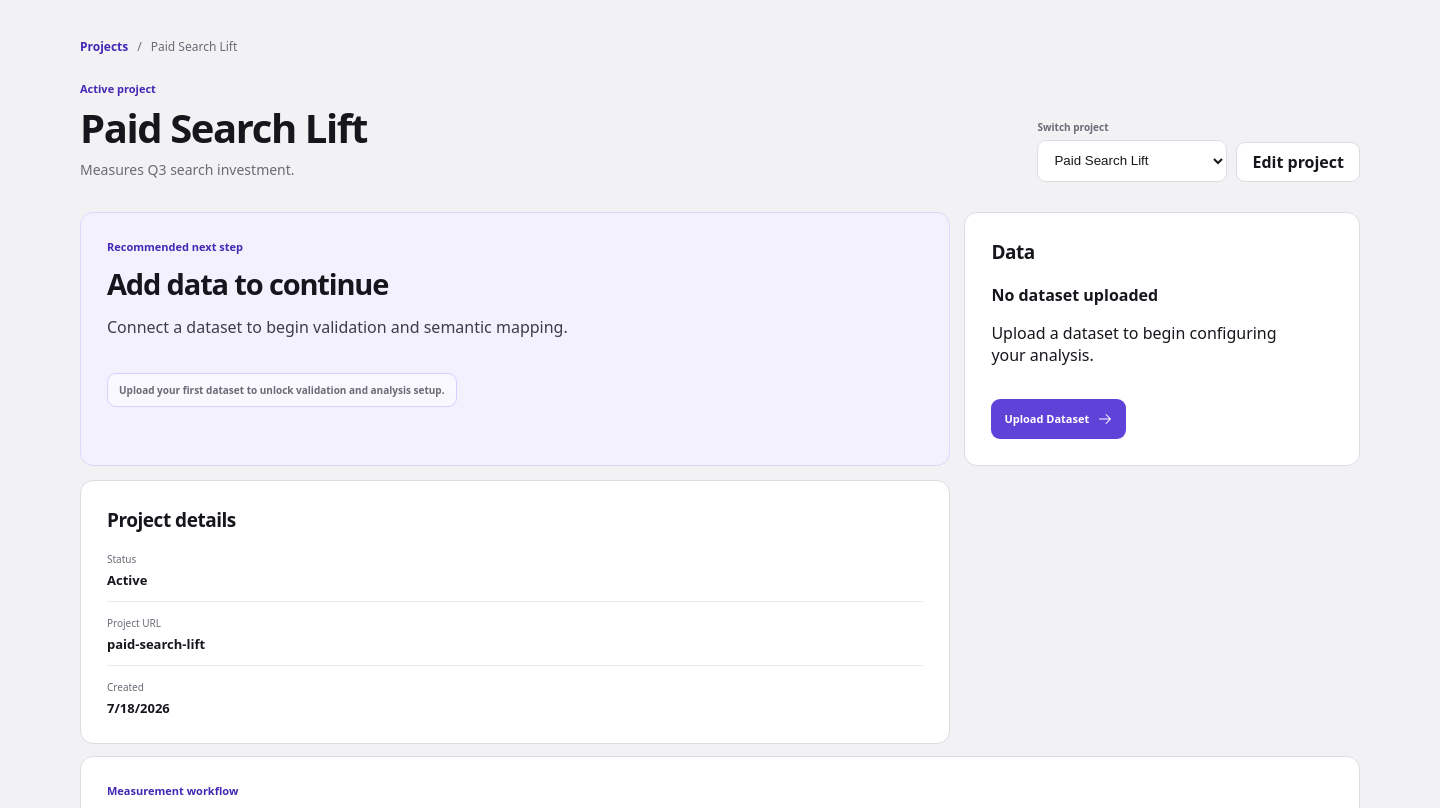
it: workspace project lifecycle › renames a project while preserving its canonical URL
Click the button "Edit project" at [1298, 162], box [1236, 142, 1360, 182]
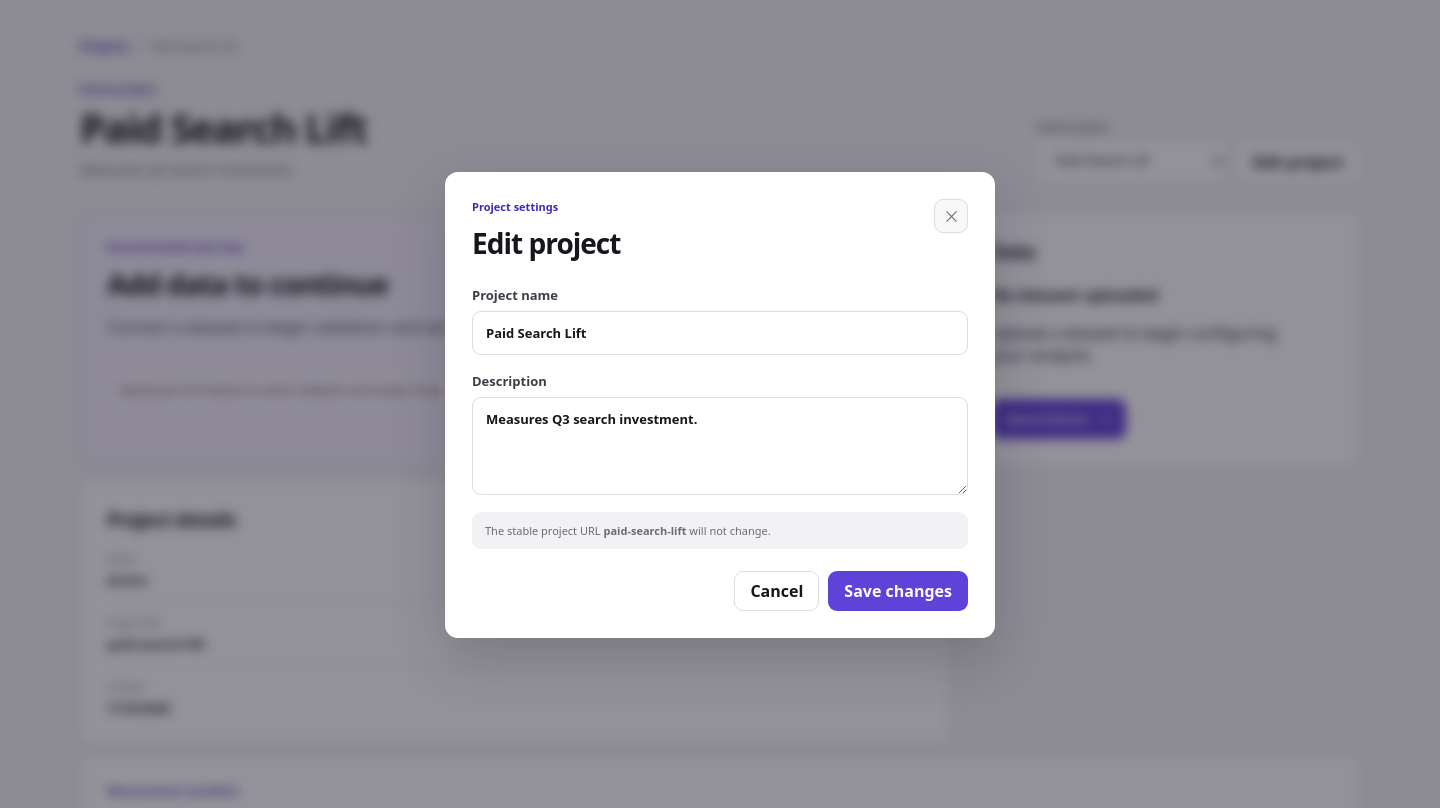
Replace the text in the field labelled "Project name" with "Search Incrementality" at [720, 333], box [472, 311, 968, 355]
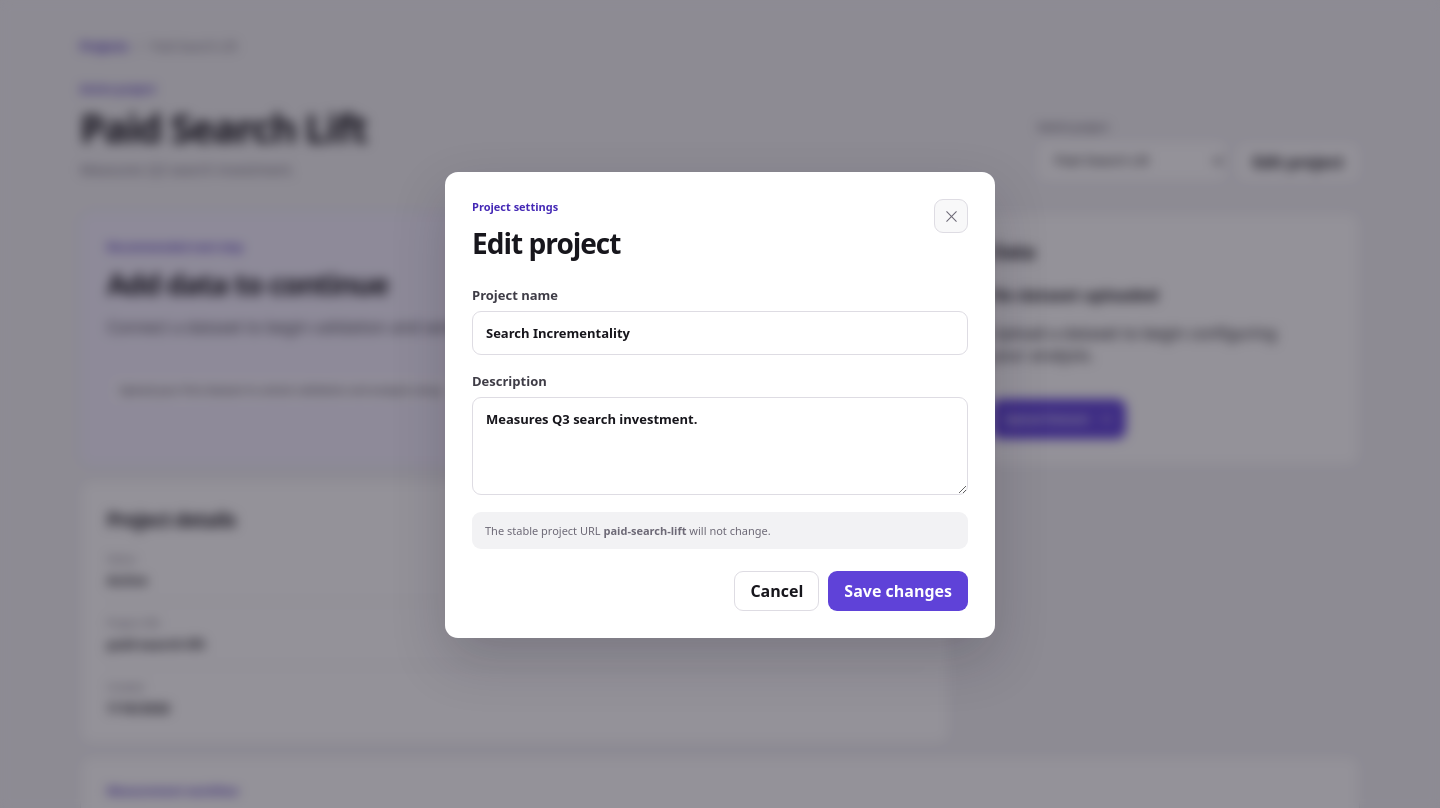
Click the button "Save changes" at [898, 591], box [828, 571, 968, 611]
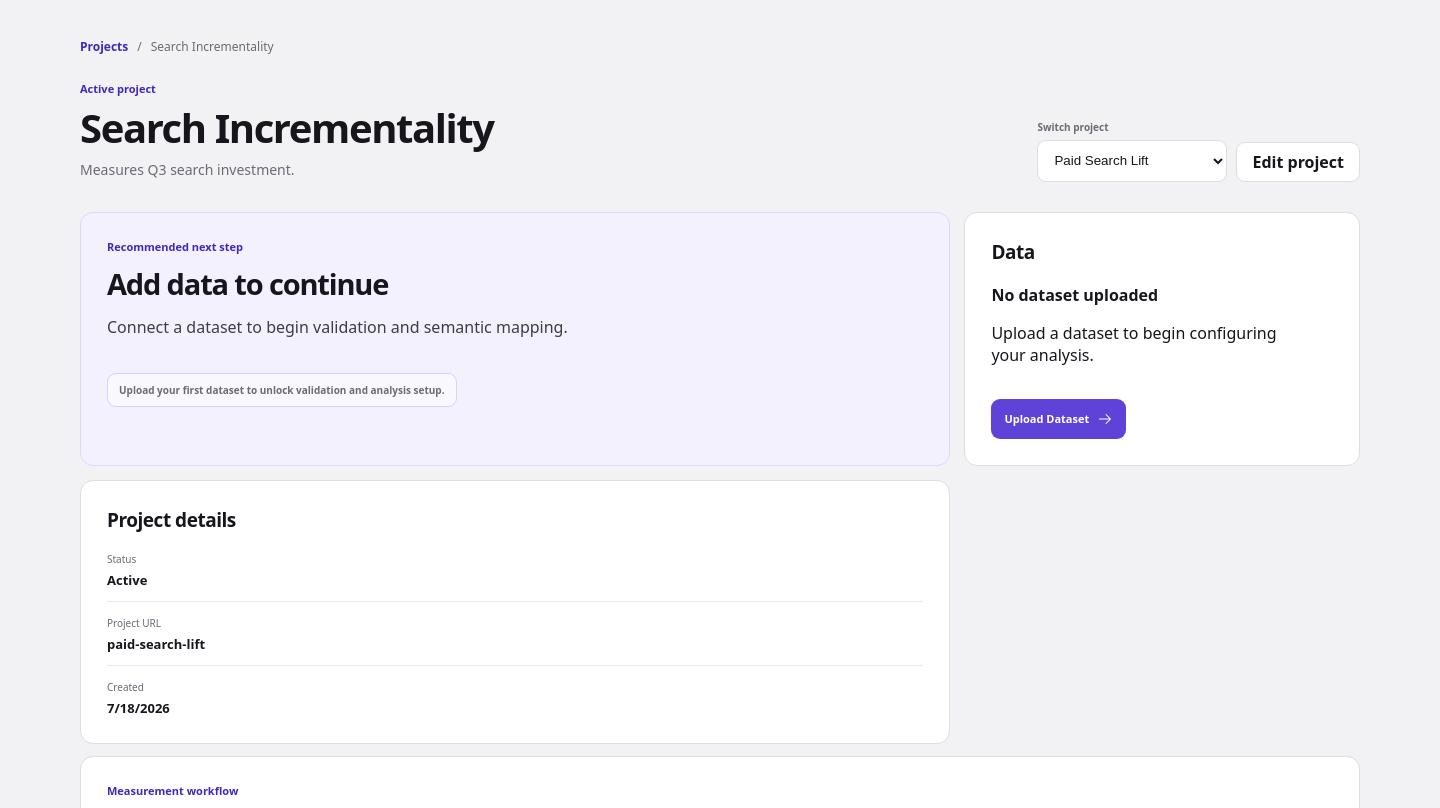
Check: the text "paid-search-lift" is shown, box [107, 635, 205, 653]
Check: the heading "Search Incrementality" is shown, box [80, 106, 494, 149]
